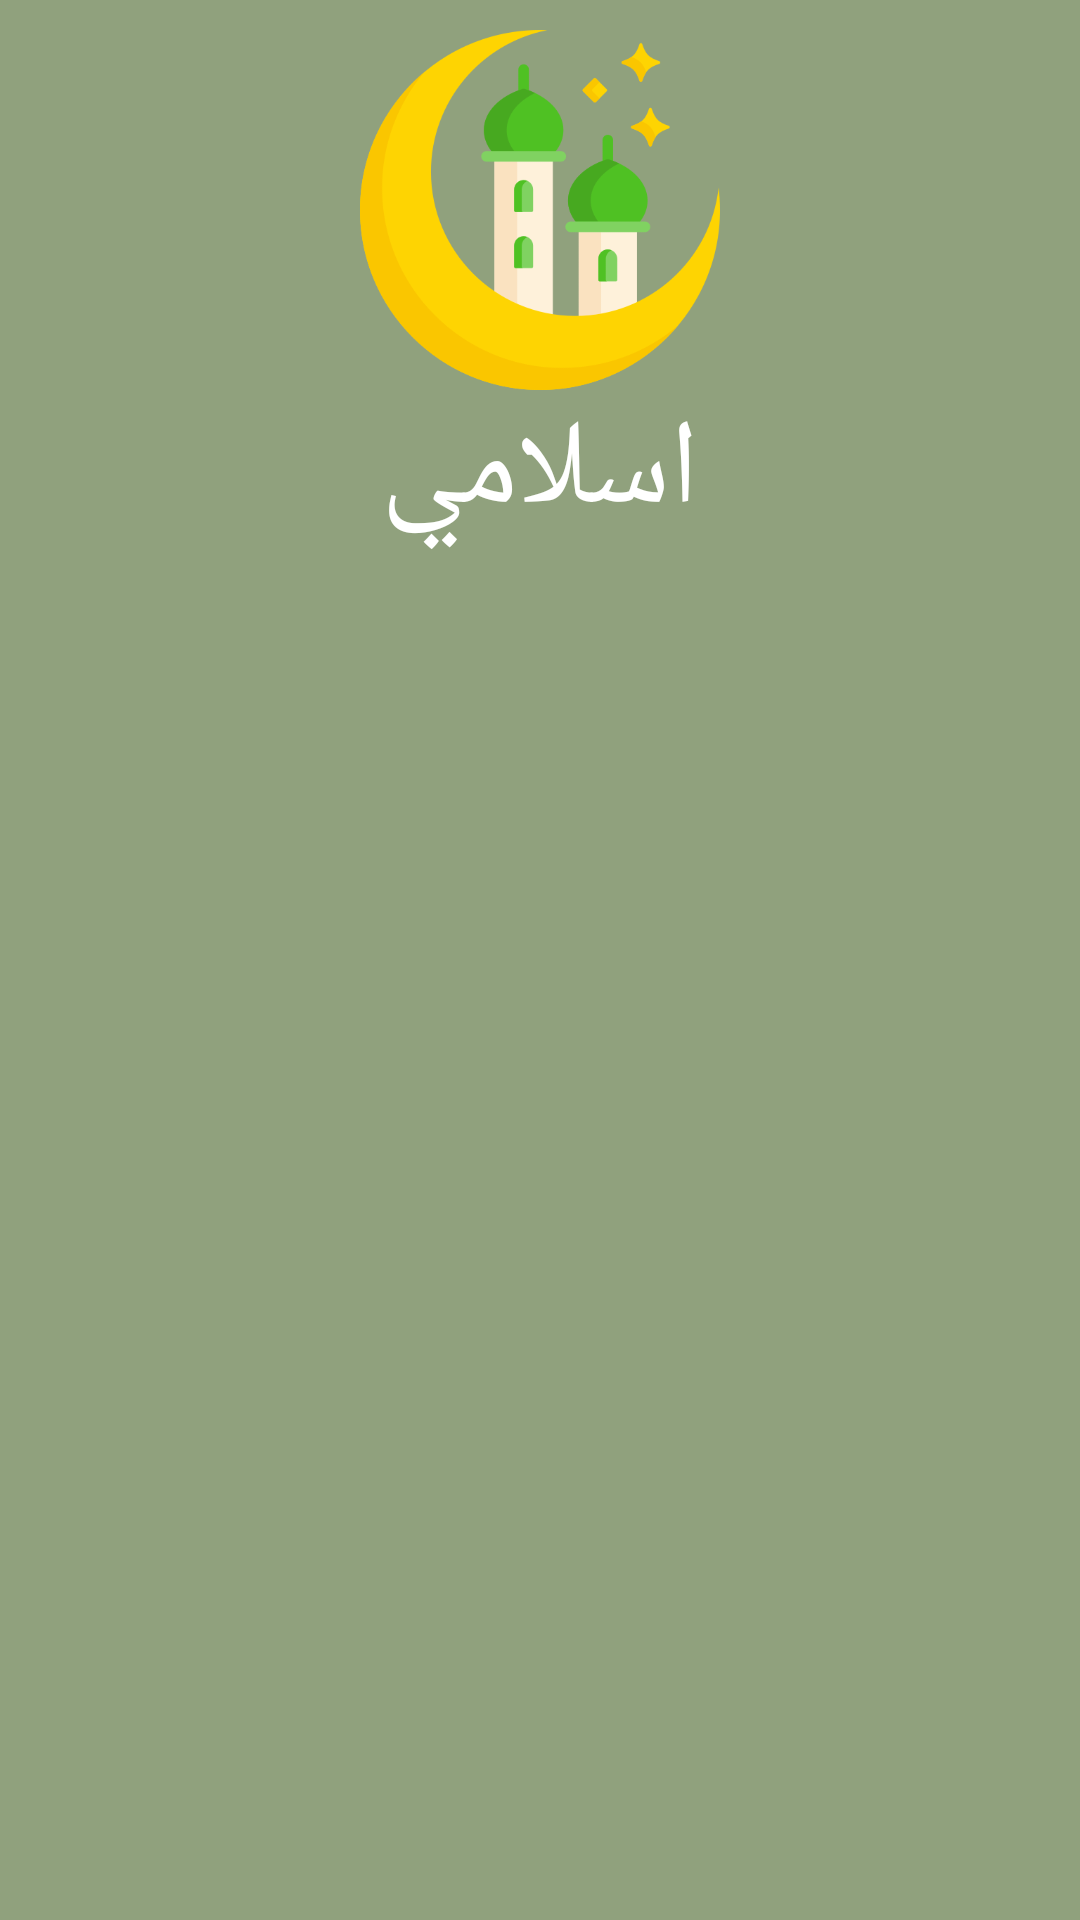

Named icons in this screenshot (1080x1920) and their centers, point (x, y):
moon: point (540, 210)
